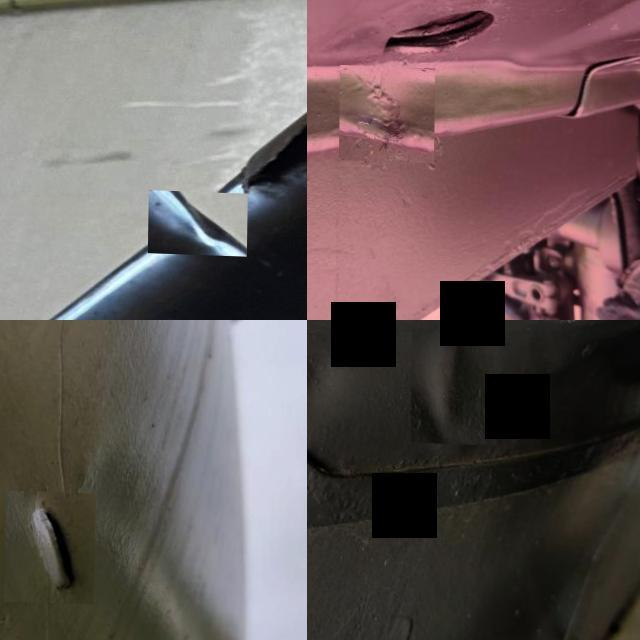Crack: (5, 488, 96, 602)
Dent: (411, 320, 499, 442), (340, 62, 436, 160), (150, 188, 248, 254), (307, 336, 346, 438)
